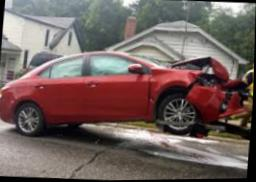Bonnet: (157, 58, 229, 81)
Bumper: (184, 77, 249, 123)
Fender: (145, 68, 202, 124)
Light: (198, 74, 224, 88)
